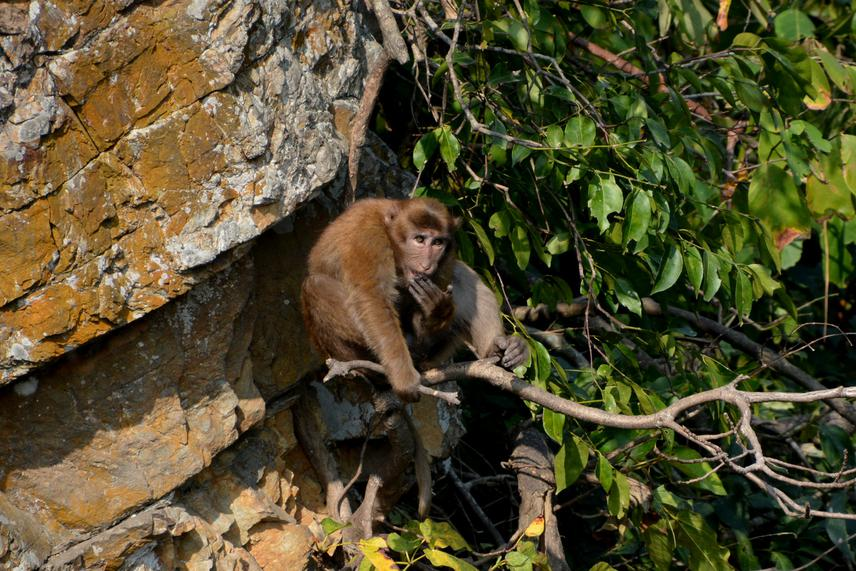monkey: (298, 190, 477, 423)
